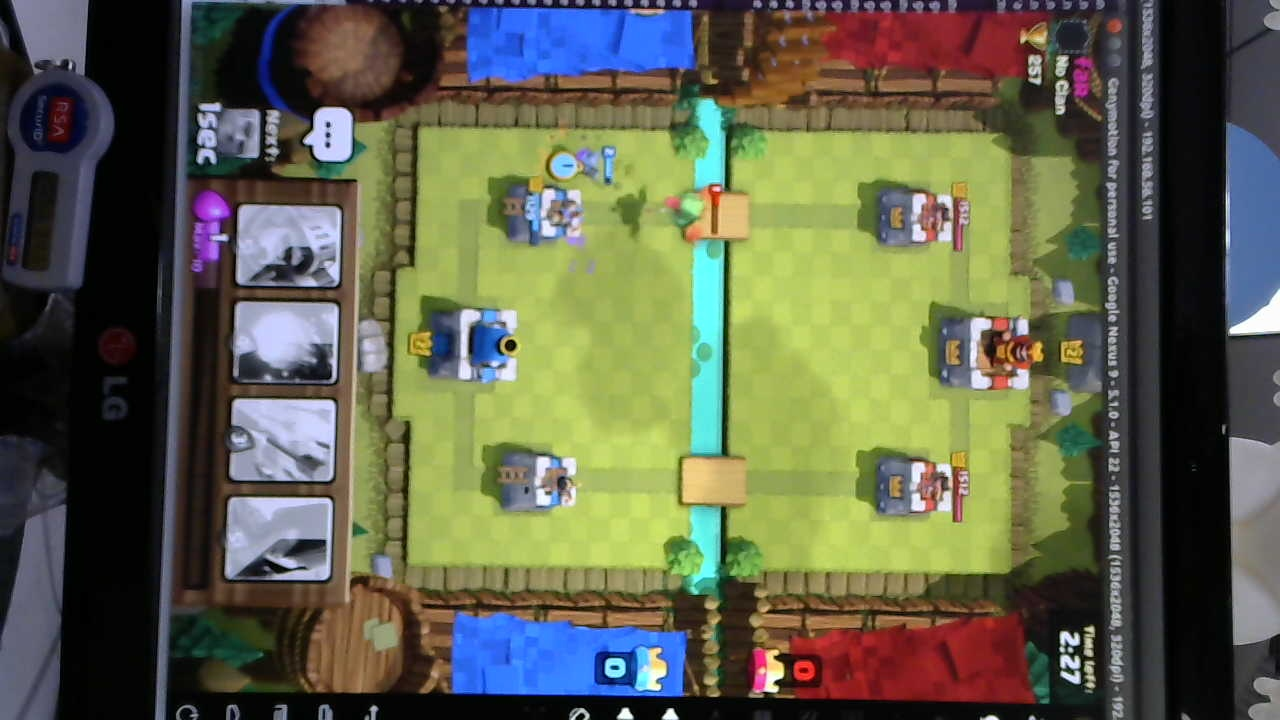arena: (497, 446, 583, 517), (502, 177, 582, 246)
dragon: (657, 185, 713, 244)
earena: (871, 454, 956, 523), (877, 186, 960, 254)
eking: (934, 307, 1041, 393)
king: (437, 302, 524, 384)
musketeer: (573, 147, 615, 187)
